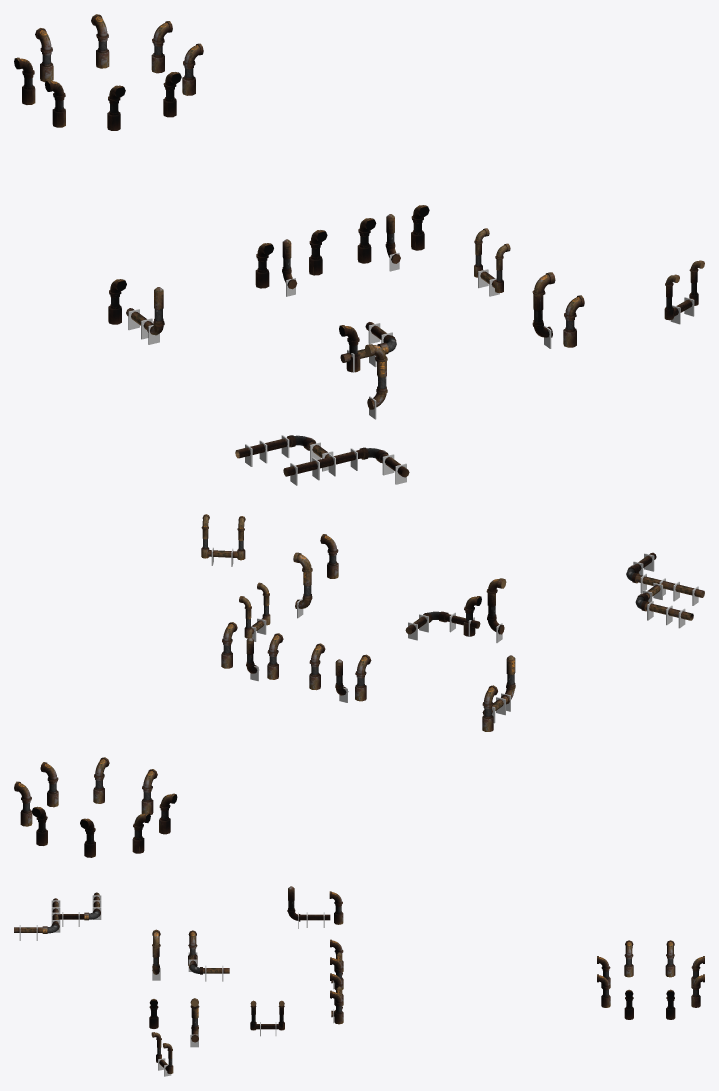
The model's file is ShipPipes.fbx.
3 views of the same model, one above another, from view 1: azimuth 30°, elevation 25°; view 2: azimuth 150°, elevation 25°; view 3: azimuth 270°, elevation 25° (orthographic). The views are drawn at different scales.
Visible parts, largest first — view 1: Circle.022; view 2: Circle.022; view 3: Circle.022.
Boxes of the visible parts, x1,y1,x2,y2 form: Circle.022: [14, 14, 704, 485]; Circle.022: [14, 514, 704, 857]; Circle.022: [14, 886, 704, 1076].
Bounding box in the file's own units: 2696 × 416 × 4630.
